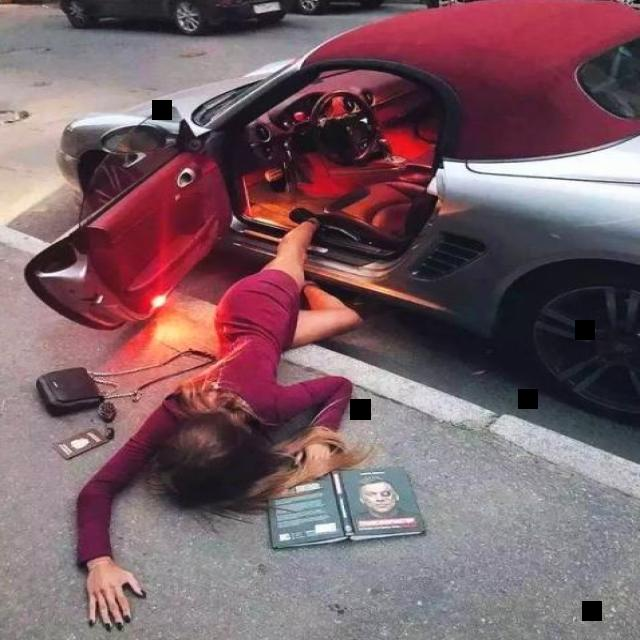Fall-Detected: (62, 200, 380, 639)
